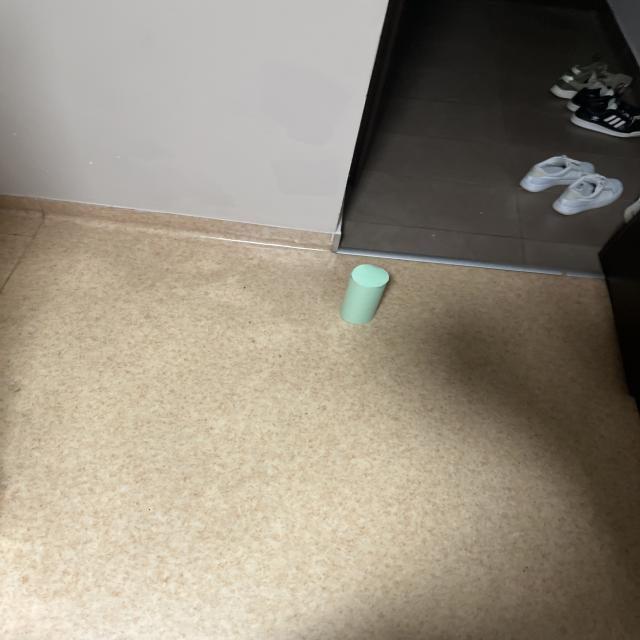meta: (340, 264, 389, 324)
